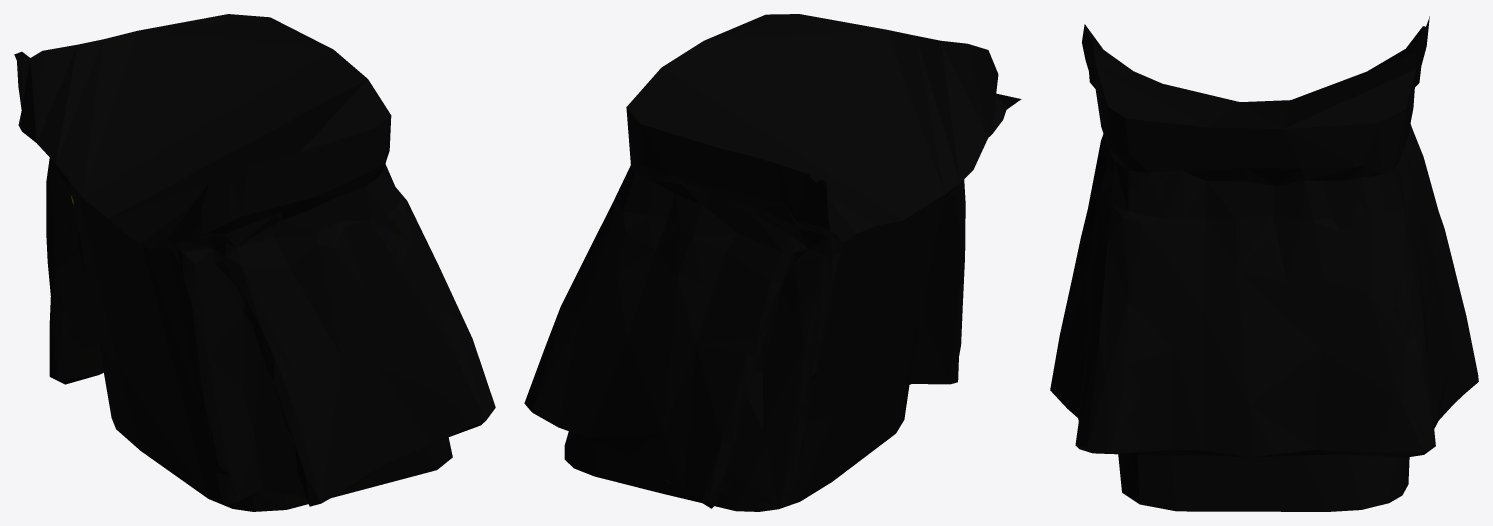
The model's file is LeftUpperLeg.glb.
The picture shows the model from 3 angles, left to right: view 1: azimuth 30°, elevation 25°; view 2: azimuth 150°, elevation 25°; view 3: azimuth 270°, elevation 25°; orthographic projection. The views are drawn at different scales.
Visible parts, largest first — view 1: LeftUpperLeg; view 2: LeftUpperLeg; view 3: LeftUpperLeg.
Part boxes in pixels (x1=…): LeftUpperLeg: x1=14, y1=14, x2=495, y2=511; LeftUpperLeg: x1=524, y1=14, x2=1021, y2=511; LeftUpperLeg: x1=1050, y1=16, x2=1478, y2=511.
Size of the model in its own units: 1.53 by 1.6 by 1.76.
Materials: 1 (1 with a texture image).
